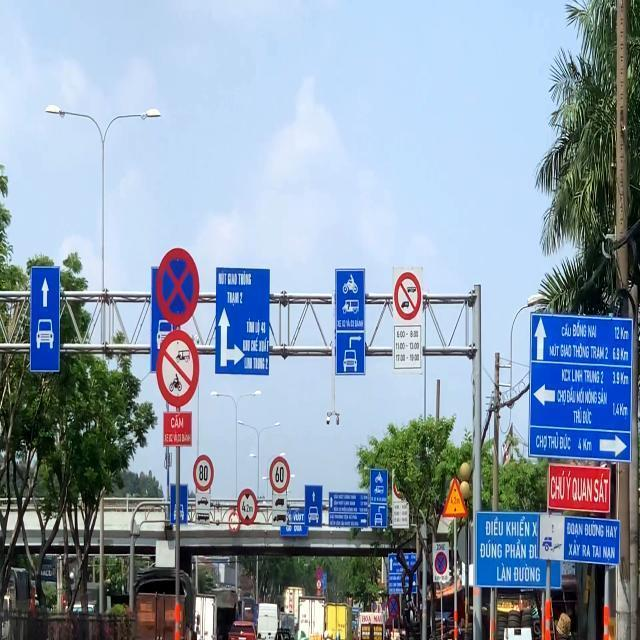127-toc-do-toi-da-60: (268, 456, 292, 496)
127-toc-do-toi-da-80: (192, 454, 214, 490)
130-cam-dung-va-do-xe: (157, 246, 199, 324), (435, 553, 447, 575), (388, 596, 400, 618)
